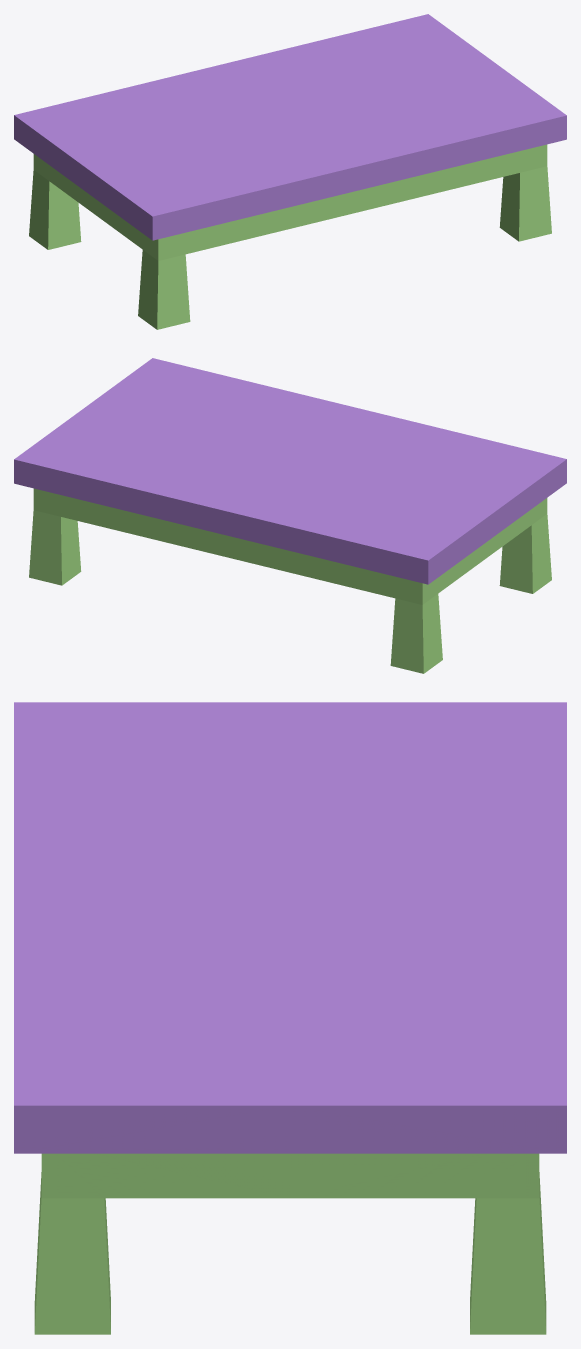
The model's file is CoffeeTable.glb.
3 views of the same model, one above another, from view 1: azimuth 30°, elevation 25°; view 2: azimuth 150°, elevation 25°; view 3: azimuth 270°, elevation 25° (orthographic). The views are drawn at different scales.
Visible parts, largest first — view 1: Coffee_Table_1, Coffee_Table_0; view 2: Coffee_Table_1, Coffee_Table_0; view 3: Coffee_Table_1, Coffee_Table_0.
Part boxes in pixels (<box>): Coffee_Table_1: <box>14,14,566,240</box>; Coffee_Table_0: <box>29,144,551,329</box>; Coffee_Table_1: <box>14,358,566,584</box>; Coffee_Table_0: <box>29,488,551,673</box>; Coffee_Table_1: <box>14,702,566,1153</box>; Coffee_Table_0: <box>34,1153,546,1334</box>.
Size of the model in its own units: 1.02 by 0.2802 by 0.5888.
